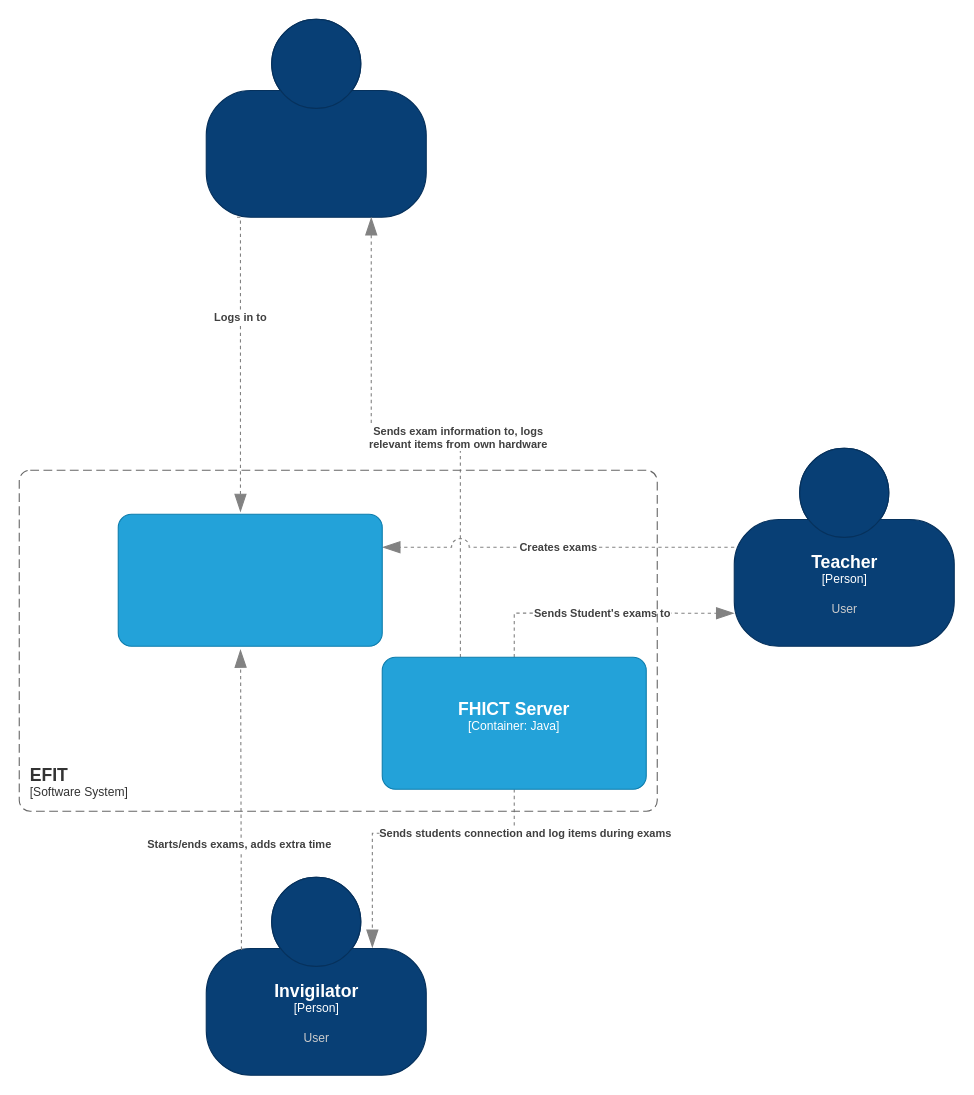
Some shapes in this 974 by 1095 pixel diagram are drawn without their labels. The shapes that lost their labels are listed below. From the top down, each one's box as (x1, y1, x2, y2) in pixels, then its label:
(205, 18, 426, 217): Student [Person] User
(117, 513, 382, 646): FHICT Client [Container: Java] Interface between Users and FHICT Server
